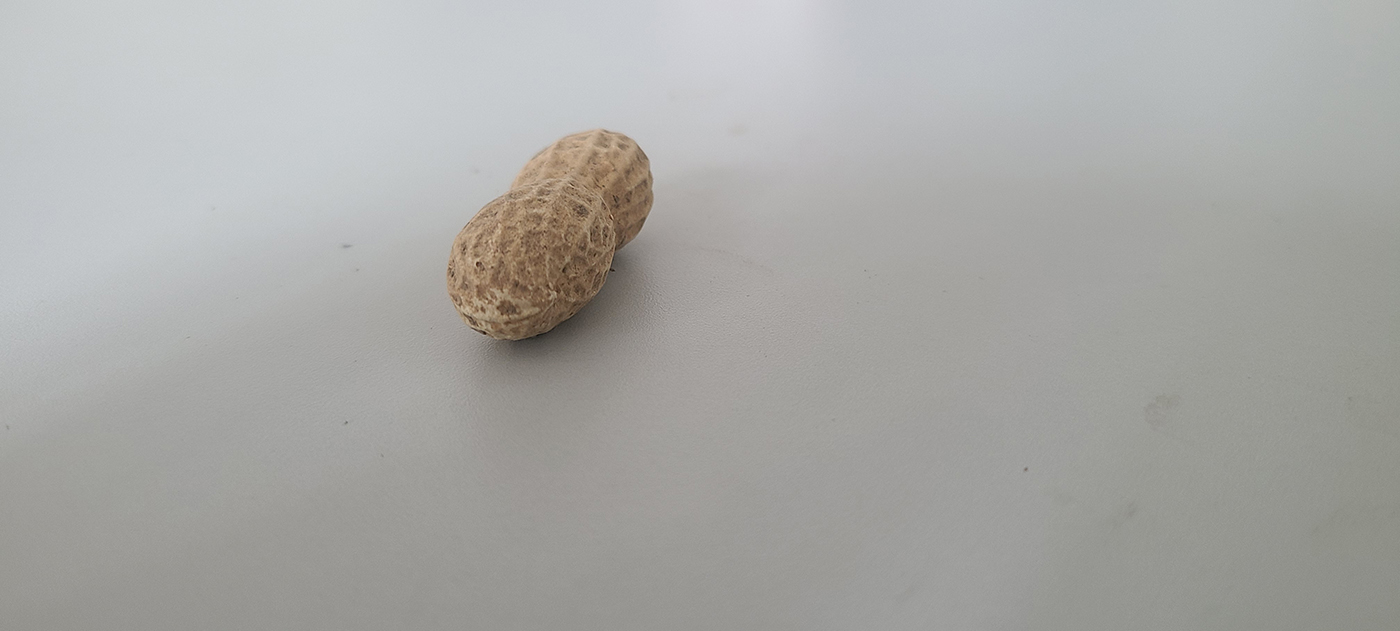h: (444, 125, 654, 344)
